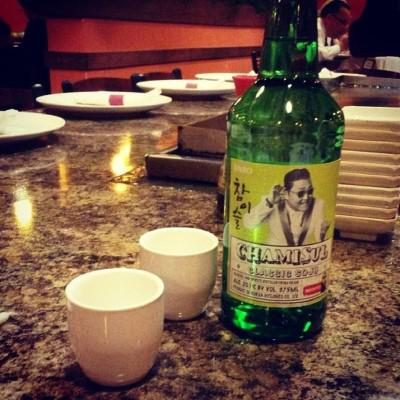soju: (217, 2, 349, 345)
